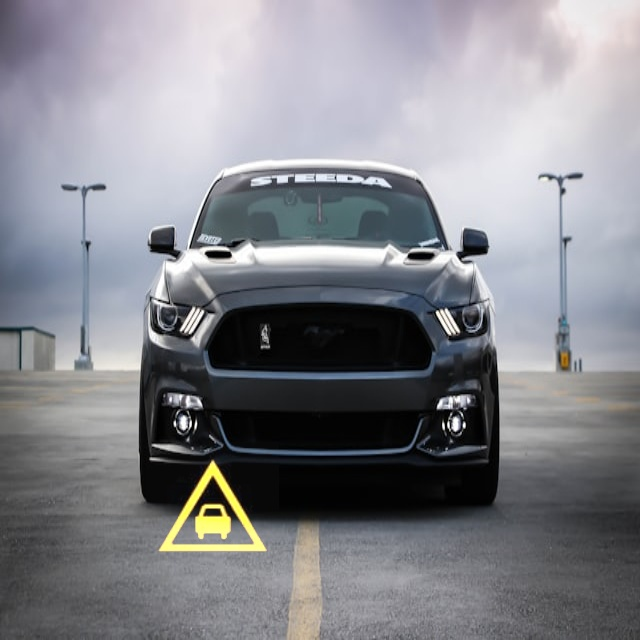symbol: (146, 442, 279, 575)
